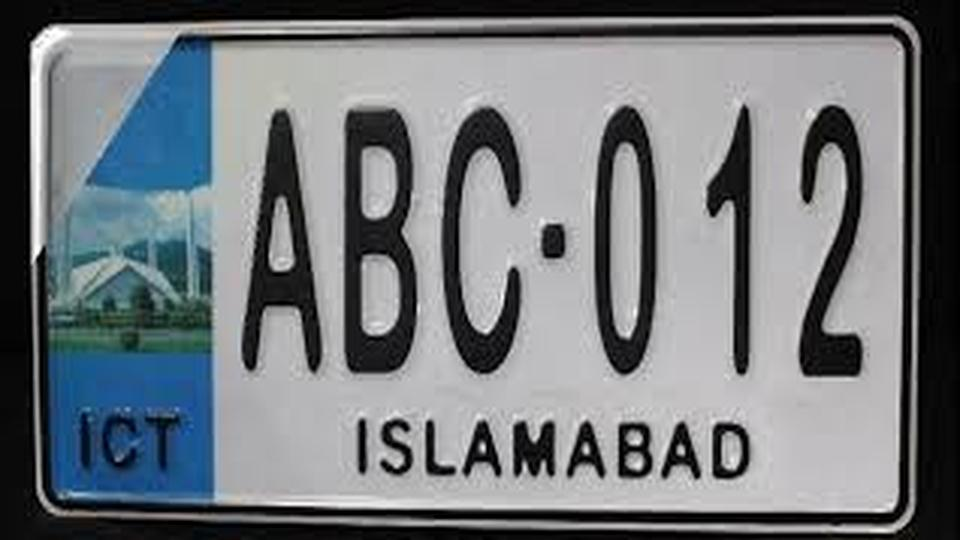NumberPlate: (41, 45, 922, 529)
